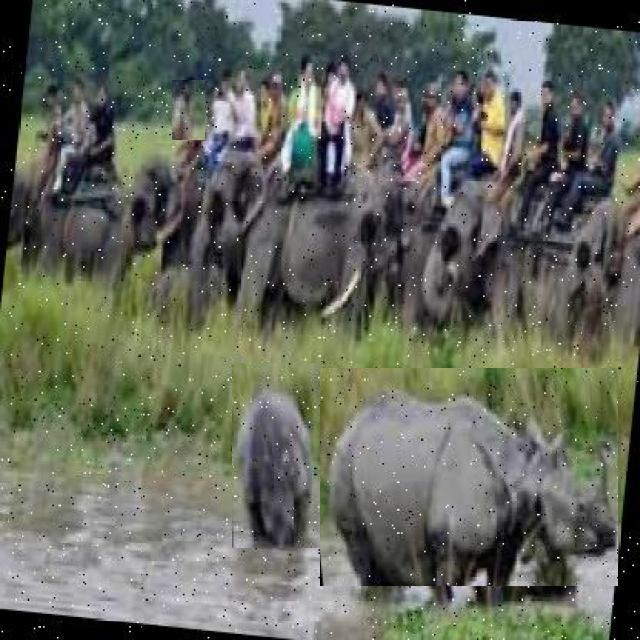Elephant: (186, 150, 285, 314), (420, 184, 510, 332), (320, 175, 403, 335), (551, 200, 640, 345), (113, 170, 194, 308)
Hunter: (515, 83, 568, 179), (318, 54, 356, 166), (414, 78, 451, 158)
Rinoceros: (320, 368, 618, 586), (240, 392, 312, 554)
